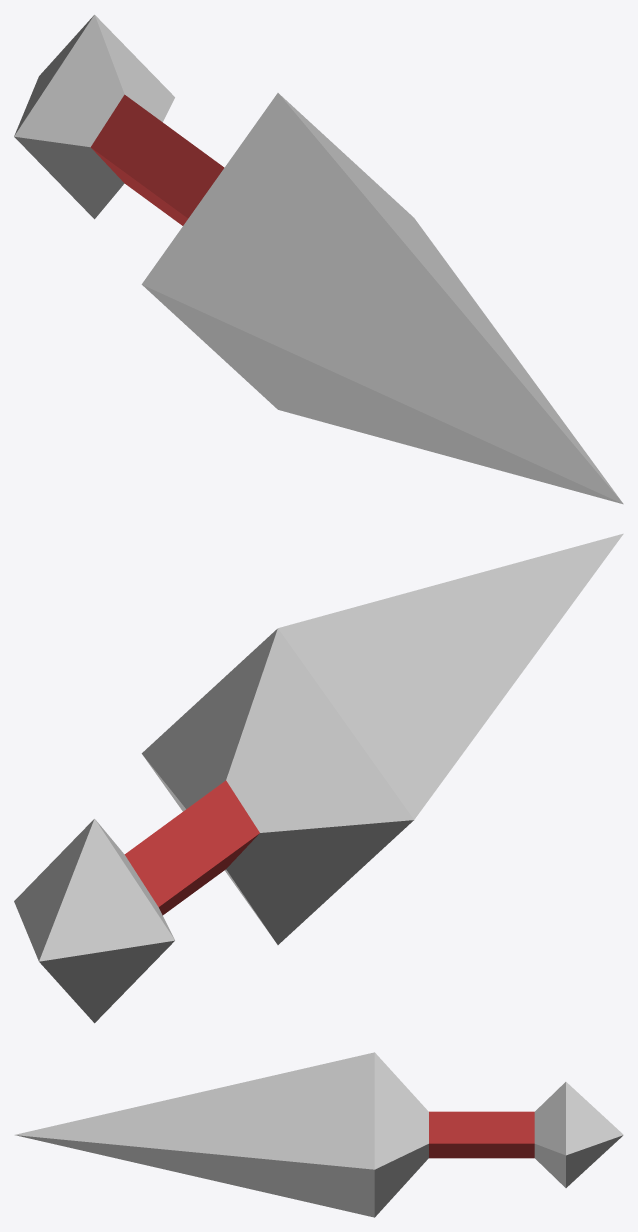
The model's file is knife.glb.
3 views of the same model, one above another, from view 1: azimuth 30°, elevation 25°; view 2: azimuth 150°, elevation 25°; view 3: azimuth 270°, elevation 25° (orthographic). The views are drawn at different scales.
Visible parts, largest first — view 1: Cube.001; view 2: Cube.001; view 3: Cube.001.
Part boxes in pixels (x1=…): Cube.001: x1=14, y1=14, x2=623, y2=504; Cube.001: x1=14, y1=533, x2=623, y2=1023; Cube.001: x1=15, y1=1052, x2=623, y2=1217.
Bounding box in the file's own units: 0.2699 × 0.3 × 1.
2 materials, 1 textured.
